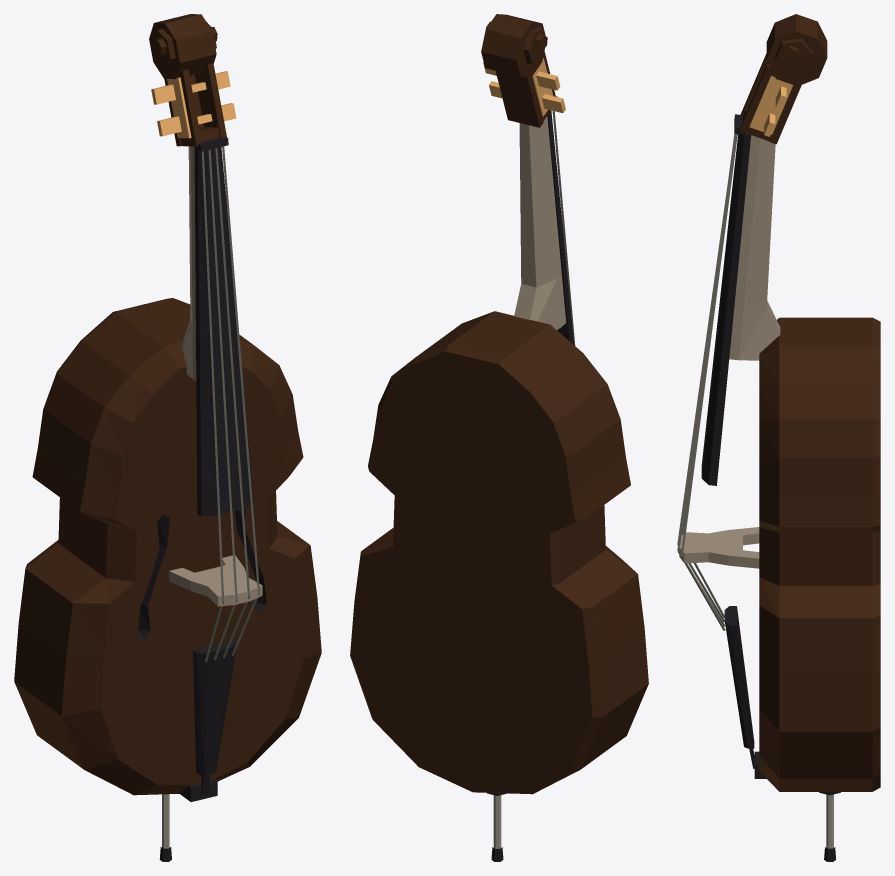
The model's file is doubleBass.glb.
The picture shows the model from 3 angles, left to right: view 1: azimuth 30°, elevation 25°; view 2: azimuth 150°, elevation 25°; view 3: azimuth 270°, elevation 25°; orthographic projection. The views are drawn at different scales.
Visible parts, largest first — view 1: double-bass-body, double-bass-metal; view 2: double-bass-body, double-bass-metal; view 3: double-bass-body, double-bass-metal.
Boxes of the visible parts, x1,y1,x2,y2 form: double-bass-body: (14,14,321,861); double-bass-metal: (151,71,259,848); double-bass-body: (350,14,648,861); double-bass-metal: (483,58,575,848); double-bass-body: (679,14,880,861); double-bass-metal: (677,75,833,848).
Bounding box in the file's own units: 0.582 × 1.82 × 0.4019.
